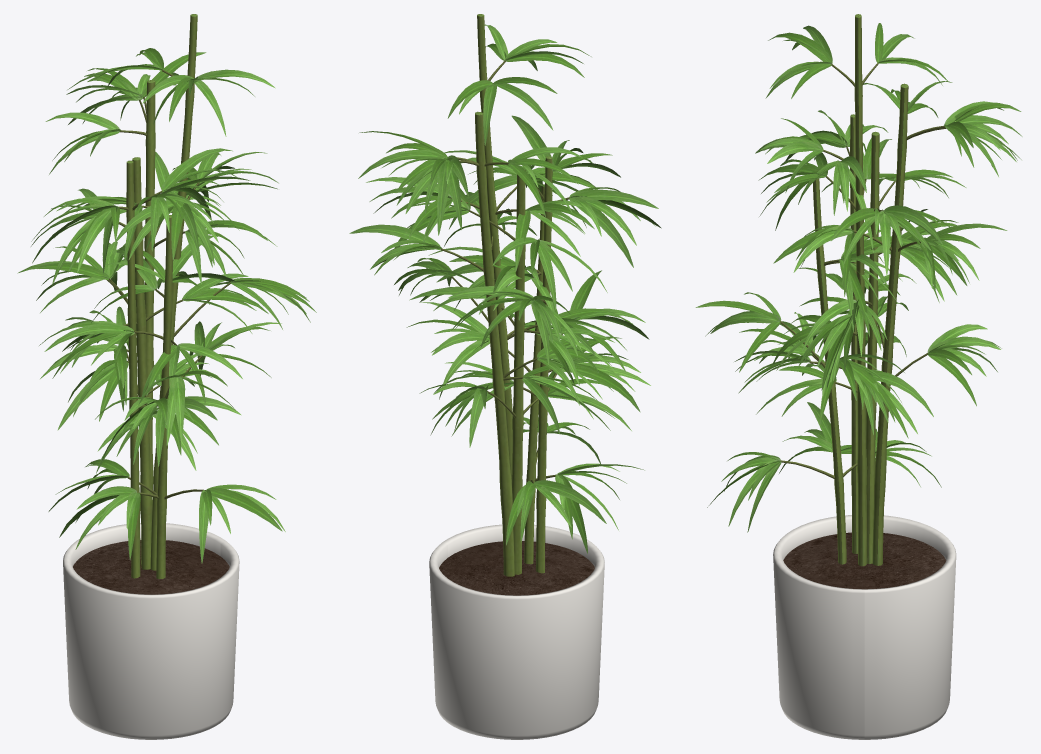
File: bambu_120.glb
3 renders of one model, left to right at view 1: azimuth 30°, elevation 25°; view 2: azimuth 150°, elevation 25°; view 3: azimuth 270°, elevation 25°, orthographic. The views are drawn at different scales.
Visible parts, largest first — view 1: bambu_120; view 2: bambu_120; view 3: bambu_120.
Boxes of the visible parts, x1,y1,x2,y2 form: bambu_120: [17, 14, 316, 739]; bambu_120: [349, 14, 661, 739]; bambu_120: [695, 14, 1022, 739].
Size of the model in its own units: 0.5 by 1.2 by 0.5081.
3 materials, 2 textured.
